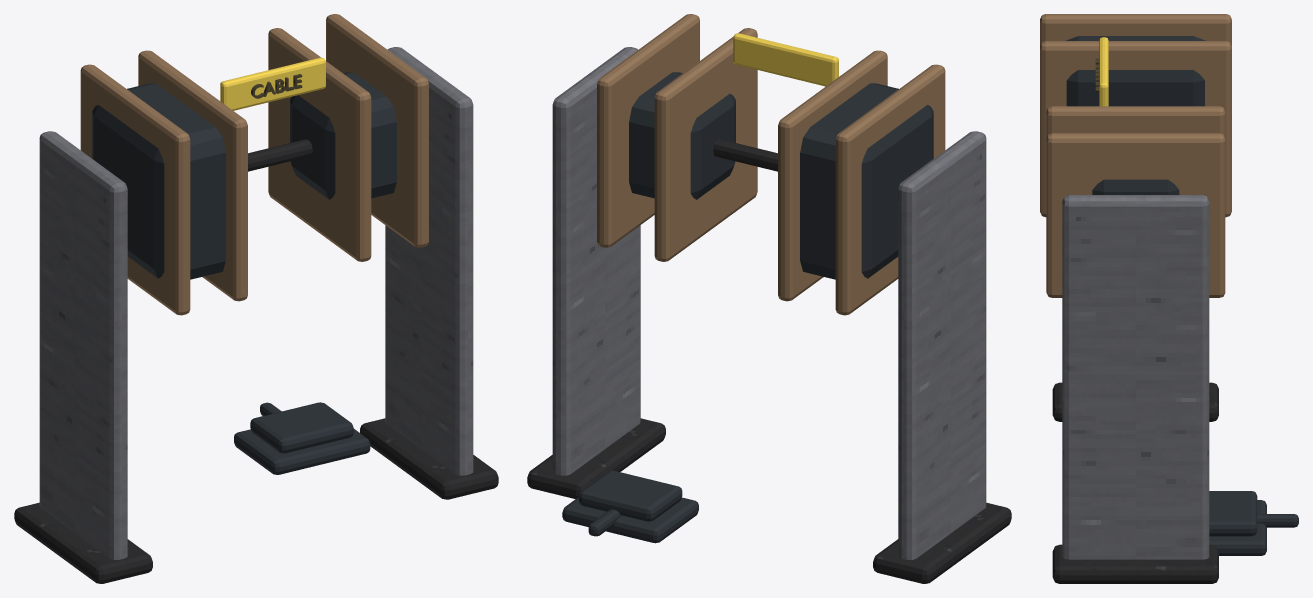
File: decor_eng_cable_spool_rack.glb
3 views of the same model, side by side, from view 1: azimuth 30°, elevation 25°; view 2: azimuth 150°, elevation 25°; view 3: azimuth 270°, elevation 25° (orthographic). The views are drawn at different scales.
Visible parts, largest first — view 1: DEC_EngCableSpoolRack__Frame_End_L, DEC_EngCableSpoolRack__Frame_End_R, DEC_EngCableSpoolRack__Spool_Full_Drum, DEC_EngCableSpoolRack__Spool_Part_Flange_A, DEC_EngCableSpoolRack__Spool_Part_Flange_B, DEC_EngCableSpoolRack__Spool_Full_Flange_A, DEC_EngCableSpoolRack__Spool_Full_Flange_B, DEC_EngCableSpoolRack__Spool_Part_Drum, DEC_EngCableSpoolRack__Frame_Foot_L, DEC_EngCableSpoolRack__Frame_Foot_R, DEC_EngCableSpoolRack__Coil_Top, DEC_EngCableSpoolRack__Coil_Base (+2 smaller); view 2: DEC_EngCableSpoolRack__Frame_End_L, DEC_EngCableSpoolRack__Frame_End_R, DEC_EngCableSpoolRack__Spool_Full_Drum, DEC_EngCableSpoolRack__Spool_Part_Flange_A, DEC_EngCableSpoolRack__Spool_Part_Flange_B, DEC_EngCableSpoolRack__Spool_Full_Flange_A, DEC_EngCableSpoolRack__Spool_Full_Flange_B, DEC_EngCableSpoolRack__Spool_Part_Drum, DEC_EngCableSpoolRack__Frame_Foot_L, DEC_EngCableSpoolRack__Frame_Foot_R, DEC_EngCableSpoolRack__Coil_Top, DEC_EngCableSpoolRack__Label_Plate (+2 smaller); view 3: DEC_EngCableSpoolRack__Frame_End_R, DEC_EngCableSpoolRack__Spool_Part_Flange_B, DEC_EngCableSpoolRack__Spool_Full_Flange_B, DEC_EngCableSpoolRack__Spool_Full_Drum, DEC_EngCableSpoolRack__Spool_Part_Flange_A, DEC_EngCableSpoolRack__Spool_Full_Flange_A, DEC_EngCableSpoolRack__Frame_Foot_R, DEC_EngCableSpoolRack__Coil_Top, DEC_EngCableSpoolRack__Coil_Base, DEC_EngCableSpoolRack__Spool_Part_Drum, DEC_EngCableSpoolRack__Frame_Foot_L, DEC_EngCableSpoolRack__Label_Plate (+1 smaller).
Boxes of the visible parts, box(x1,y1,x2,y2) form: DEC_EngCableSpoolRack__Frame_End_L: box(39, 131, 127, 559); DEC_EngCableSpoolRack__Frame_End_R: box(385, 47, 473, 475); DEC_EngCableSpoolRack__Spool_Full_Drum: box(92, 83, 225, 279); DEC_EngCableSpoolRack__Spool_Part_Flange_A: box(268, 28, 371, 261); DEC_EngCableSpoolRack__Spool_Part_Flange_B: box(326, 14, 428, 247); DEC_EngCableSpoolRack__Spool_Full_Flange_A: box(80, 64, 190, 315); DEC_EngCableSpoolRack__Spool_Full_Flange_B: box(138, 50, 247, 301); DEC_EngCableSpoolRack__Spool_Part_Drum: box(290, 72, 396, 199); DEC_EngCableSpoolRack__Frame_Foot_L: box(14, 502, 152, 583); DEC_EngCableSpoolRack__Frame_Foot_R: box(360, 418, 498, 499); DEC_EngCableSpoolRack__Coil_Top: box(250, 402, 353, 453); DEC_EngCableSpoolRack__Coil_Base: box(234, 429, 370, 474); DEC_EngCableSpoolRack__Frame_End_L: box(898, 131, 986, 559); DEC_EngCableSpoolRack__Frame_End_R: box(552, 47, 640, 475); DEC_EngCableSpoolRack__Spool_Full_Drum: box(800, 83, 933, 279); DEC_EngCableSpoolRack__Spool_Part_Flange_A: box(654, 28, 757, 261); DEC_EngCableSpoolRack__Spool_Part_Flange_B: box(597, 14, 699, 247); DEC_EngCableSpoolRack__Spool_Full_Flange_A: box(835, 64, 945, 315); DEC_EngCableSpoolRack__Spool_Full_Flange_B: box(778, 50, 887, 301); DEC_EngCableSpoolRack__Spool_Part_Drum: box(629, 72, 735, 199); DEC_EngCableSpoolRack__Frame_Foot_L: box(873, 502, 1011, 583); DEC_EngCableSpoolRack__Frame_Foot_R: box(527, 418, 665, 498); DEC_EngCableSpoolRack__Coil_Top: box(579, 470, 682, 521); DEC_EngCableSpoolRack__Label_Plate: box(733, 33, 838, 86); DEC_EngCableSpoolRack__Frame_End_R: box(1062, 195, 1209, 559); DEC_EngCableSpoolRack__Spool_Part_Flange_B: box(1046, 133, 1225, 297); DEC_EngCableSpoolRack__Spool_Full_Flange_B: box(1040, 41, 1231, 217); DEC_EngCableSpoolRack__Spool_Full_Drum: box(1065, 36, 1205, 106); DEC_EngCableSpoolRack__Spool_Part_Flange_A: box(1046, 106, 1225, 137); DEC_EngCableSpoolRack__Spool_Full_Flange_A: box(1040, 14, 1231, 45); DEC_EngCableSpoolRack__Frame_Foot_R: box(1052, 544, 1218, 583); DEC_EngCableSpoolRack__Coil_Top: box(1209, 491, 1257, 536); DEC_EngCableSpoolRack__Coil_Base: box(1209, 500, 1266, 555); DEC_EngCableSpoolRack__Spool_Part_Drum: box(1092, 179, 1179, 194); DEC_EngCableSpoolRack__Frame_Foot_L: box(1052, 382, 1218, 421); DEC_EngCableSpoolRack__Label_Plate: box(1099, 37, 1108, 106).
Bounding box in the file's own units: 1.4 × 1.49 × 0.81.
6 materials, 2 textured.
